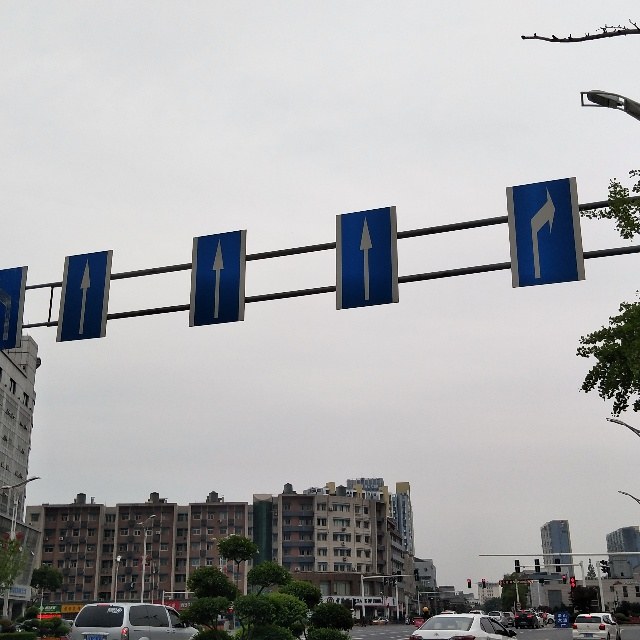right: (505, 177, 588, 290)
straight: (333, 203, 402, 313), (189, 229, 252, 329), (56, 249, 117, 345)
